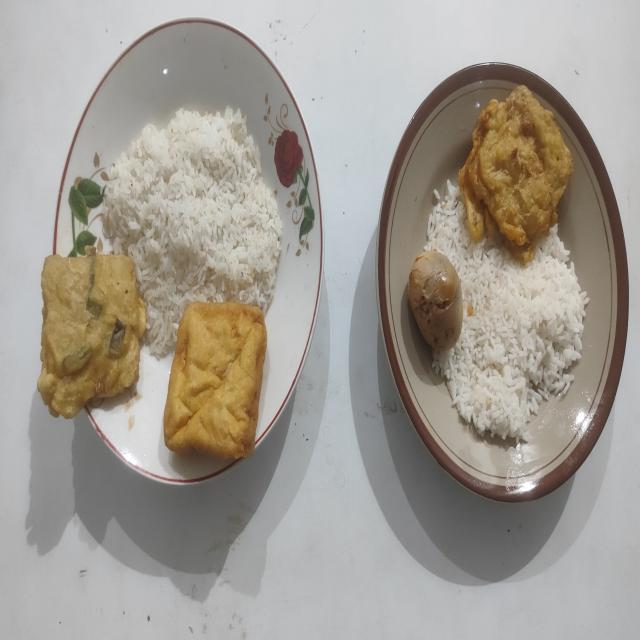nasi_putih: (102, 109, 282, 359), (424, 180, 589, 440)
tahu_goreng: (164, 302, 267, 458)
